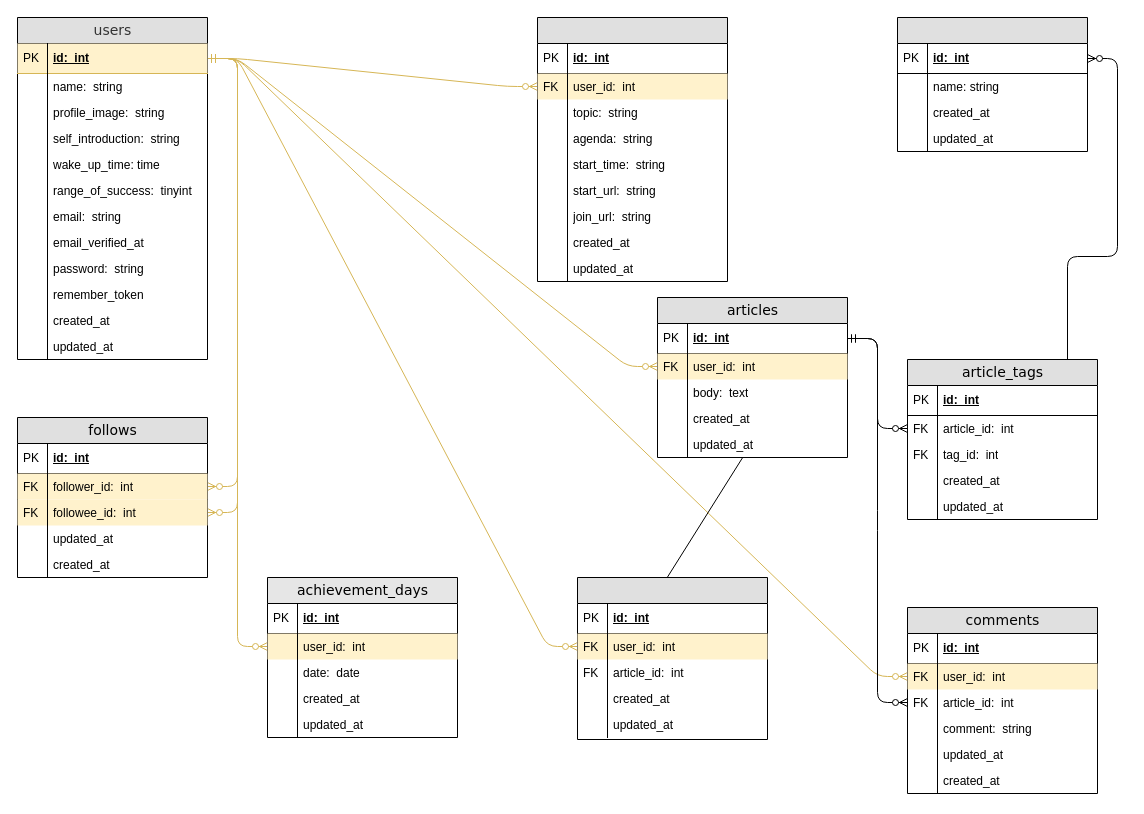
The diagram is 1144 pixels wide and 814 high, and some of its shapes have lost their labels. Each missing label, with the box of its shape:
likes: (576, 576, 768, 740)
meetings: (536, 16, 728, 282)
tags: (896, 16, 1088, 152)
